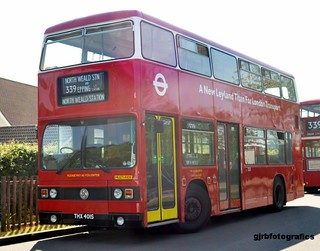bus: (36, 9, 304, 233)
